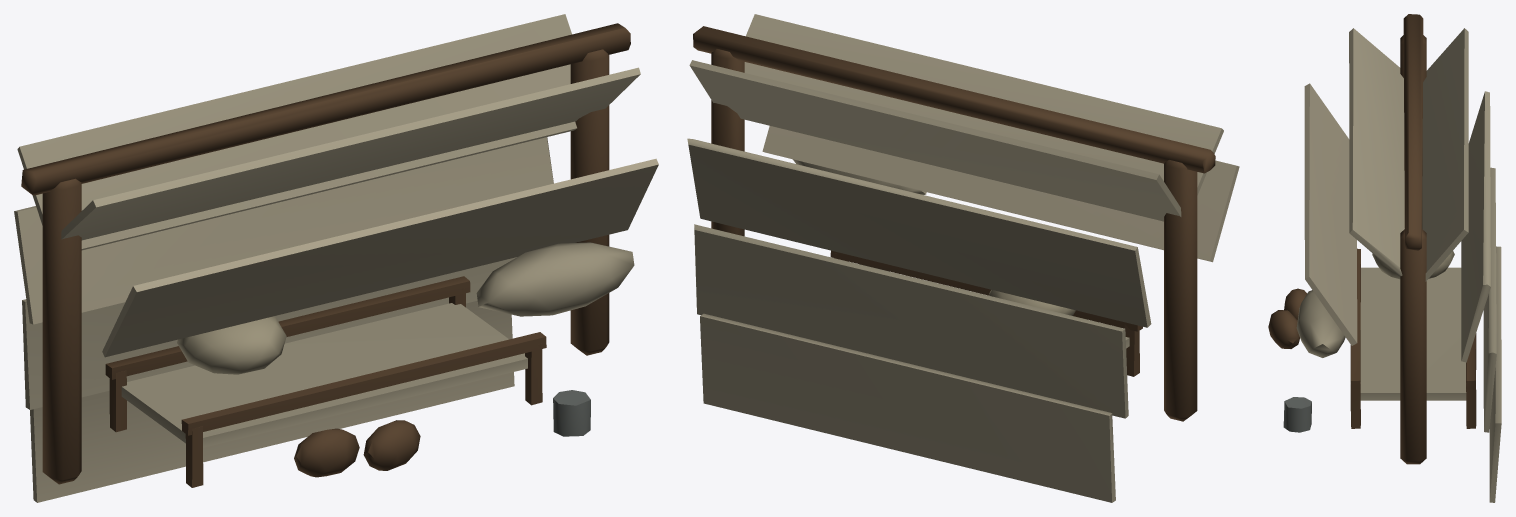
Rendered from bunk_cots_b_lod1.glb.
3 renders of one model, left to right at view 1: azimuth 30°, elevation 25°; view 2: azimuth 150°, elevation 25°; view 3: azimuth 270°, elevation 25°, orthographic. The views are drawn at different scales.
Visible parts, largest first — view 1: Surface.001; view 2: Surface.001; view 3: Surface.001.
Part boxes in pixels (<box>): Surface.001: <box>14,14,658,502</box>; Surface.001: <box>687,14,1239,502</box>; Surface.001: <box>1268,14,1501,502</box>.
Size of the model in its own units: 3.2 by 1.95 by 1.41.
